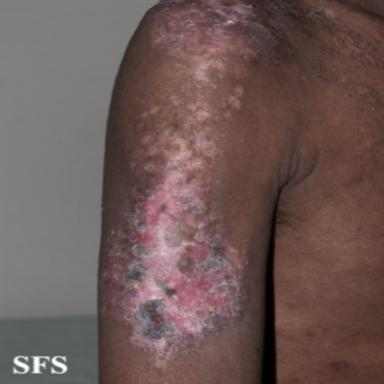Lupus-Erythematosus-Chronicus-Discoides: (104, 0, 261, 369)
